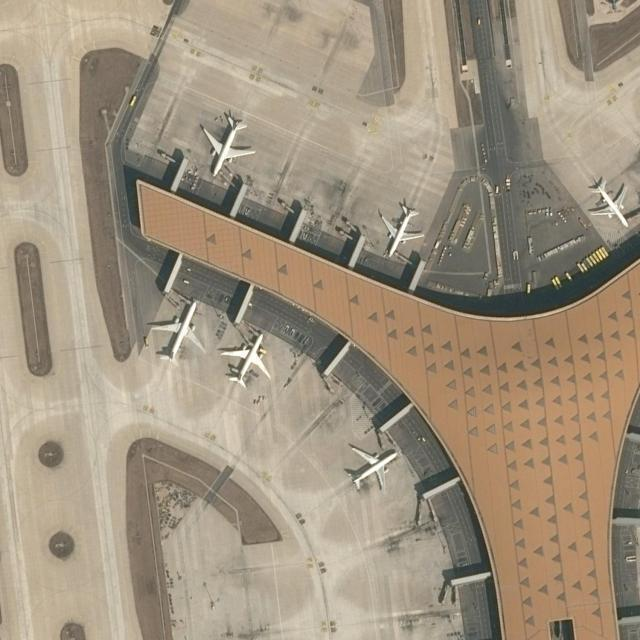Aircraft: (150, 292, 205, 364), (198, 105, 256, 173), (343, 437, 405, 495), (221, 325, 275, 388), (378, 200, 425, 259), (583, 177, 629, 223)
